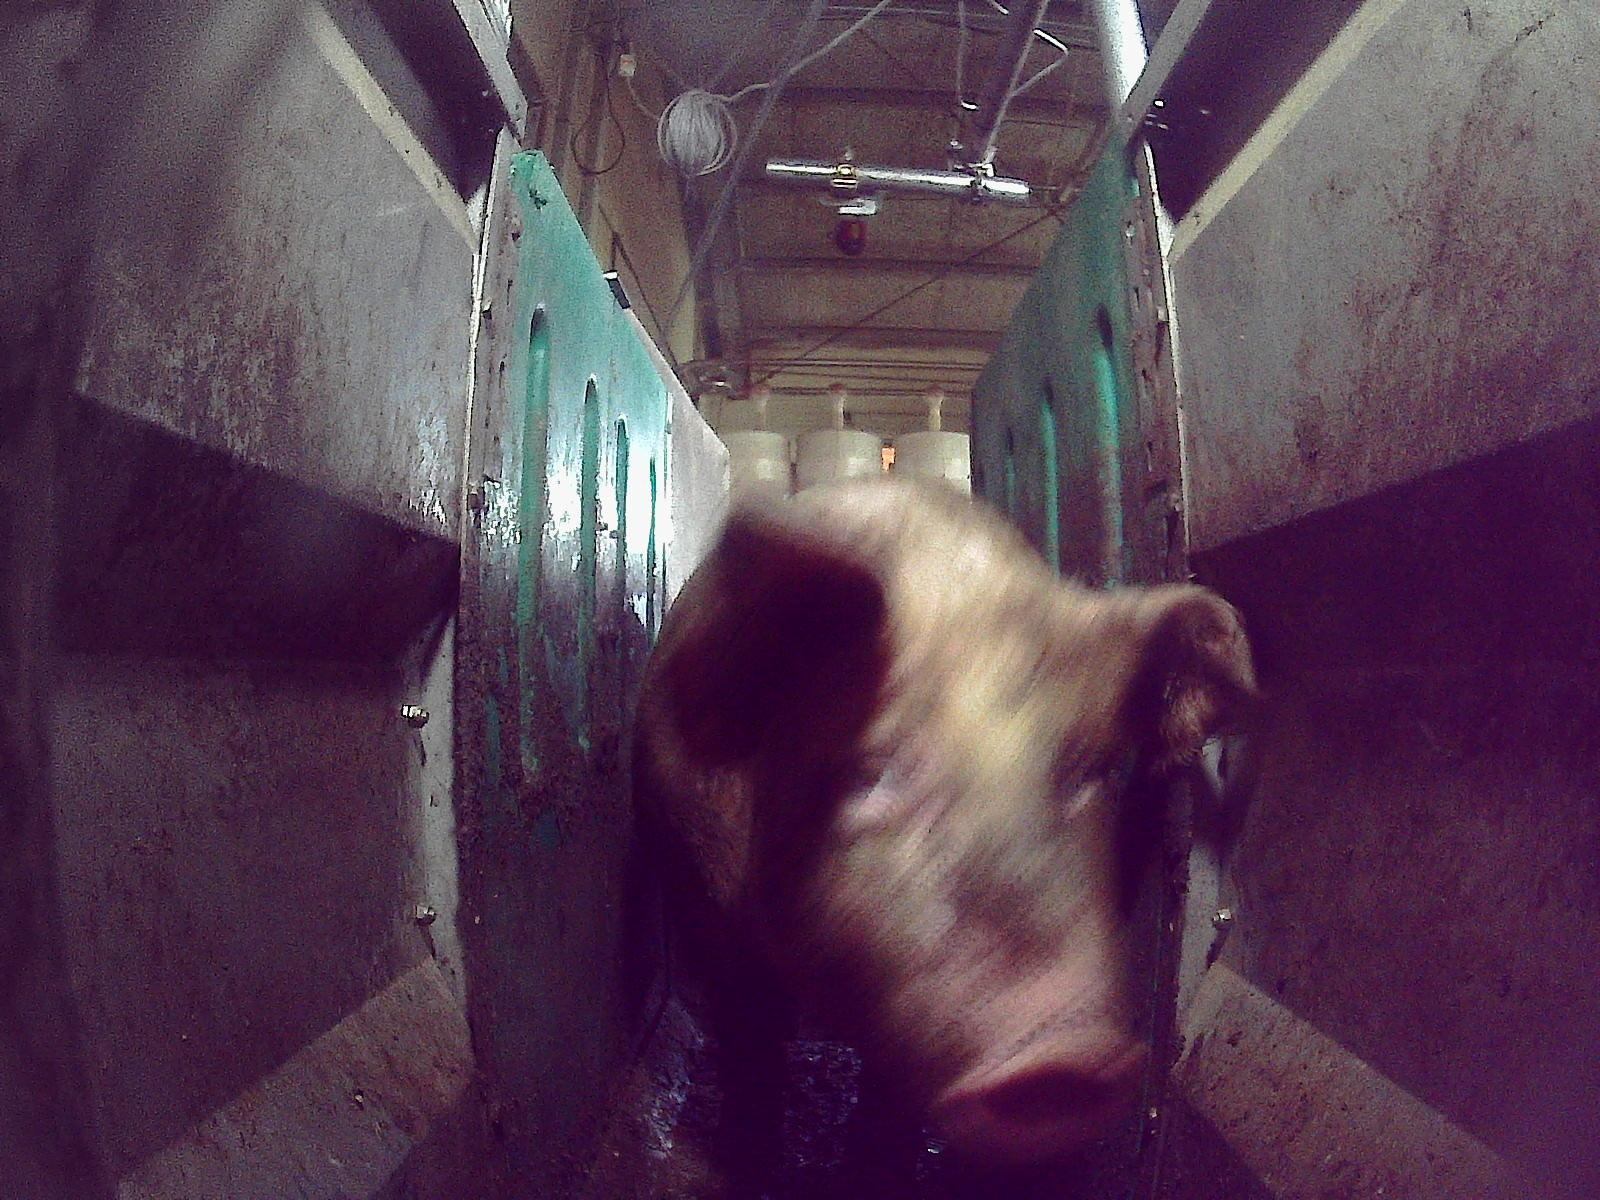Face: (762, 585, 1153, 1157)
